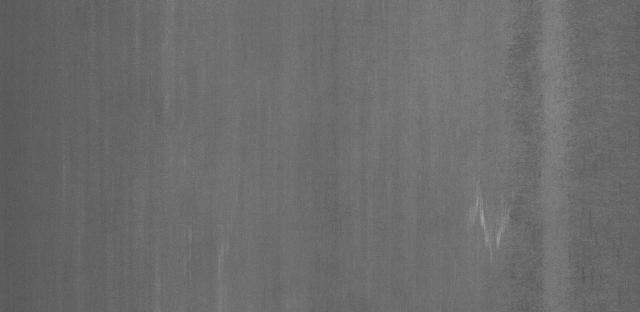silk_spot: (451, 177, 524, 263)
